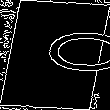O_W: (4, 31, 106, 79)
